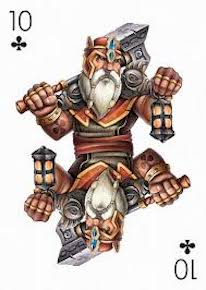TenOfClubs: (6, 8, 201, 284)
